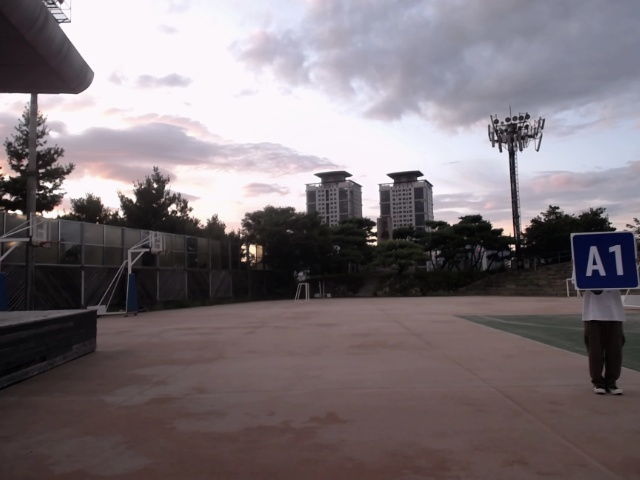delivery_a1: (572, 232, 638, 290)
